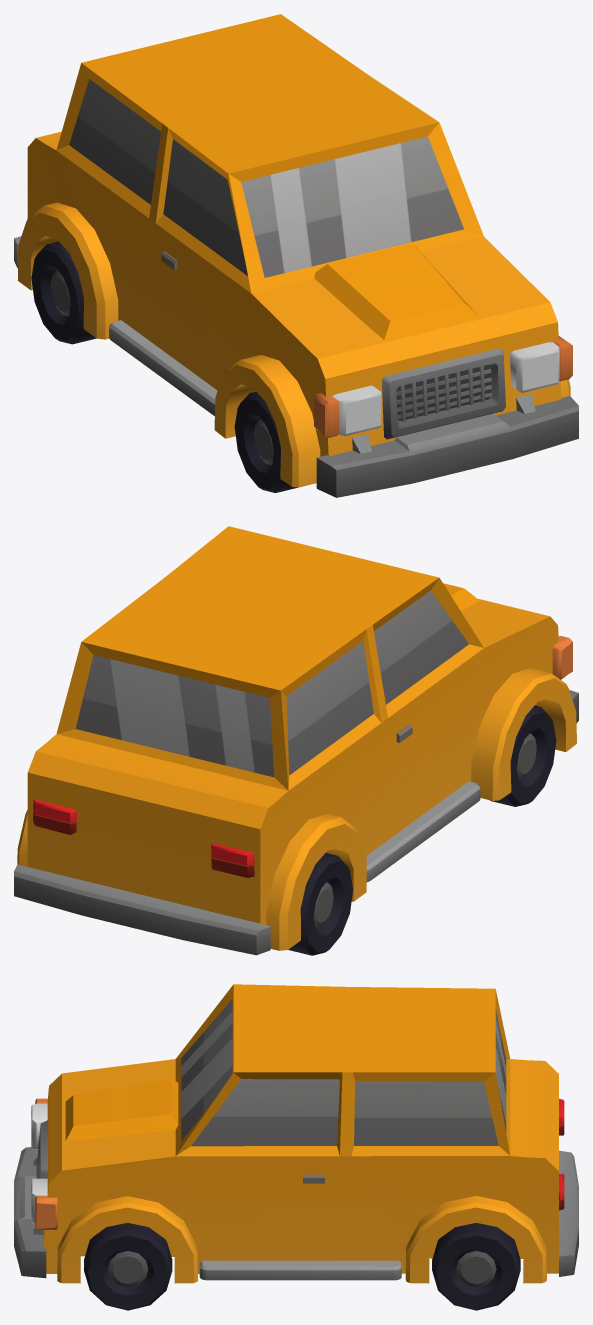
The model's file is Car_3_19.glb.
The picture shows the model from 3 angles, top to bottom: view 1: azimuth 30°, elevation 25°; view 2: azimuth 150°, elevation 25°; view 3: azimuth 270°, elevation 25°; orthographic projection. The views are drawn at different scales.
Visible parts, largest first — view 1: Car_3_19, Wheel_Br, Wheel_Fr; view 2: Car_3_19, Wheel_Br, Wheel_Fr; view 3: Car_3_19, Wheel_Bl, Wheel_Fl.
Boxes of the visible parts, left/top/right/bottom form: Car_3_19: left=14, top=14, right=578, bottom=497; Wheel_Br: left=31, top=241, right=96, bottom=344; Wheel_Fr: left=234, top=391, right=297, bottom=492; Car_3_19: left=14, top=526, right=578, bottom=955; Wheel_Br: left=288, top=853, right=353, bottom=955; Wheel_Fr: left=490, top=705, right=556, bottom=806; Car_3_19: left=14, top=984, right=578, bottom=1283; Wheel_Bl: left=432, top=1223, right=520, bottom=1310; Wheel_Fl: left=84, top=1223, right=172, bottom=1310.
Size of the model in its own units: 1.13 by 1.02 by 2.3.
6 materials, 6 textured.
